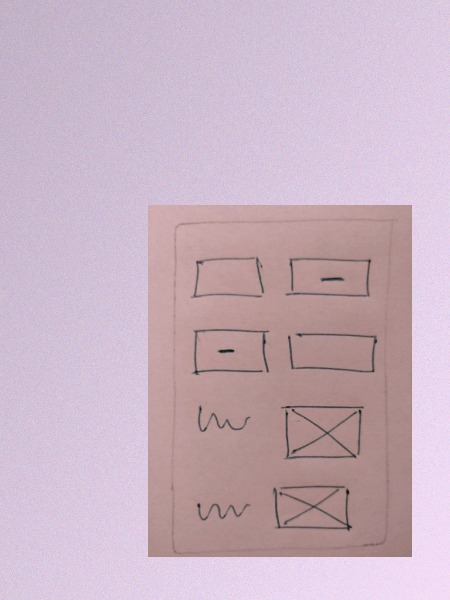button: (279, 250, 374, 305), (189, 326, 274, 380)
image: (275, 401, 368, 466), (267, 479, 355, 537)
text: (189, 400, 257, 440), (193, 493, 253, 527)
text_input: (284, 325, 378, 379), (189, 253, 267, 304)
